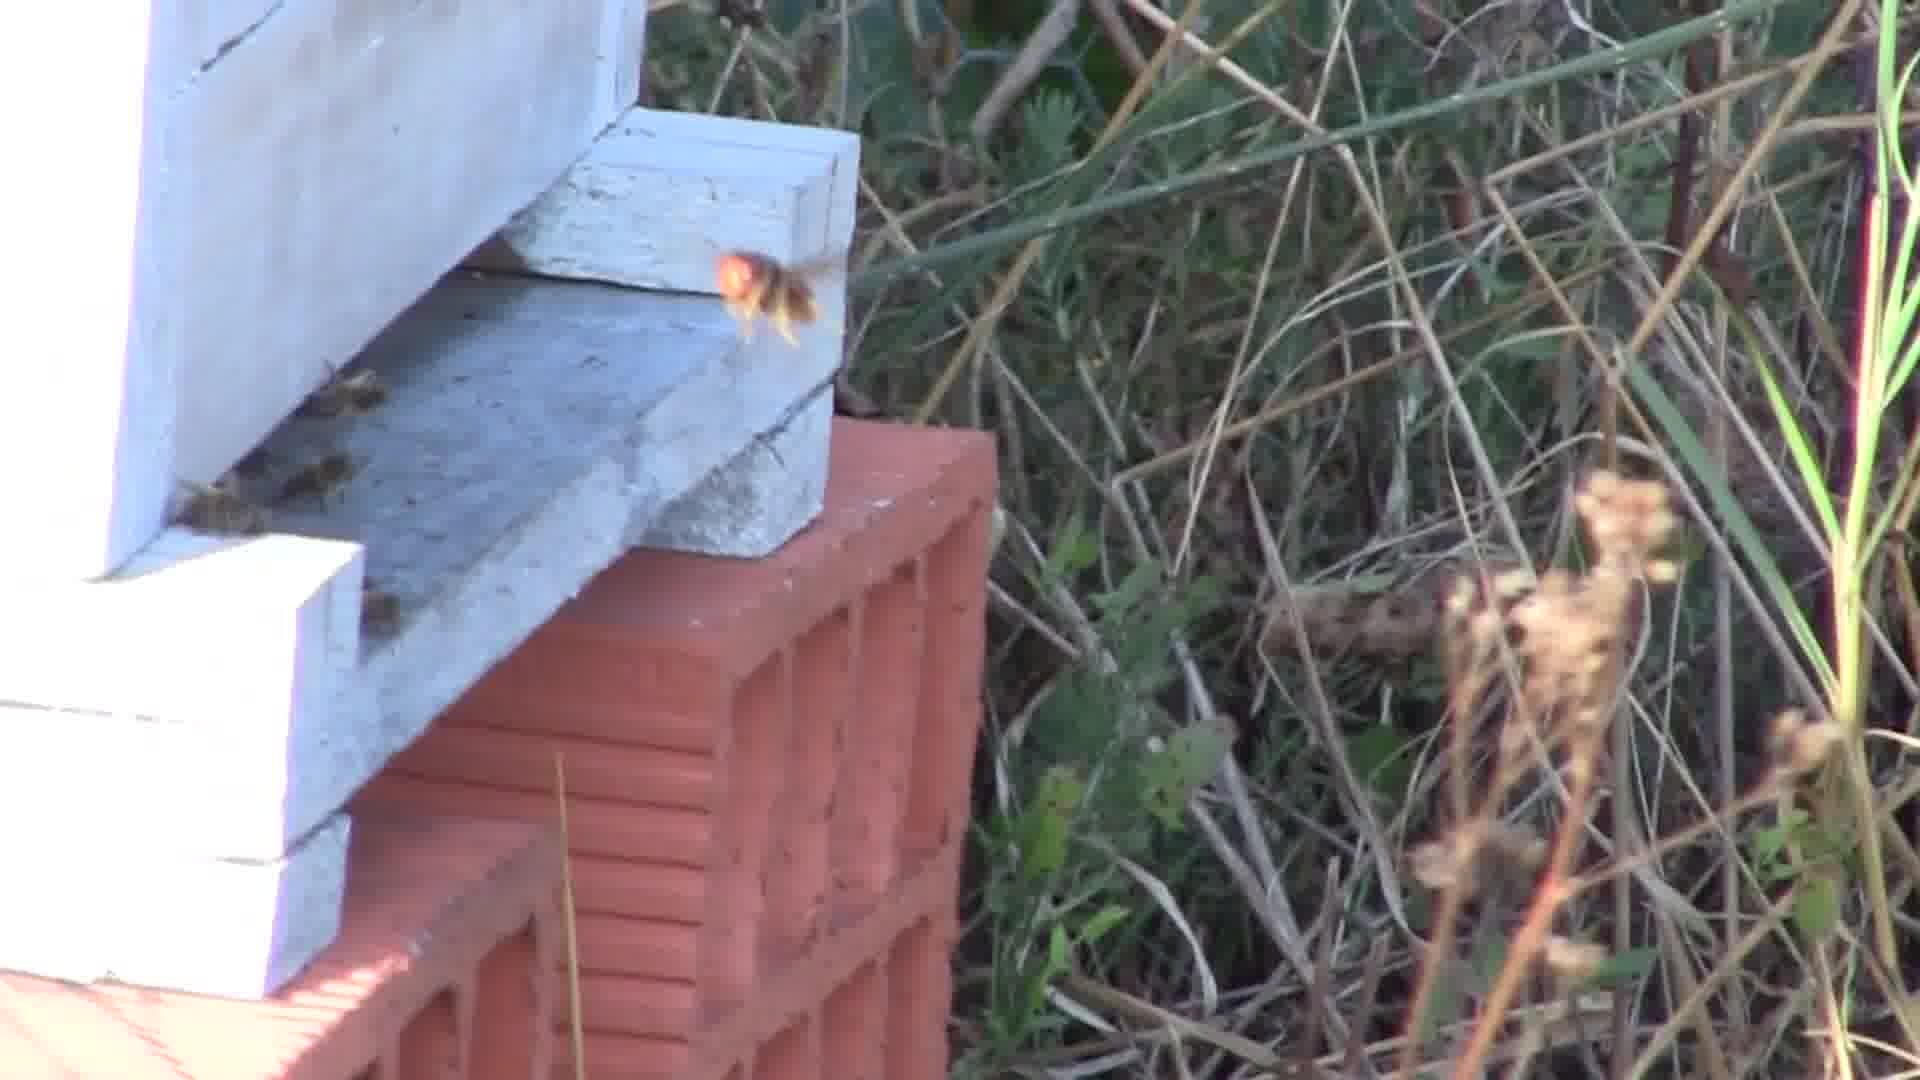bee: (277, 448, 373, 522)
hornet: (696, 241, 852, 355)
